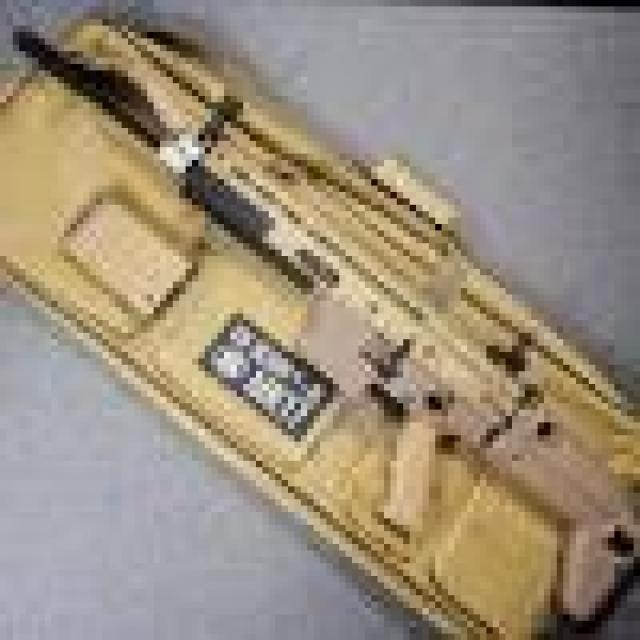Gun: (16, 12, 640, 627)
